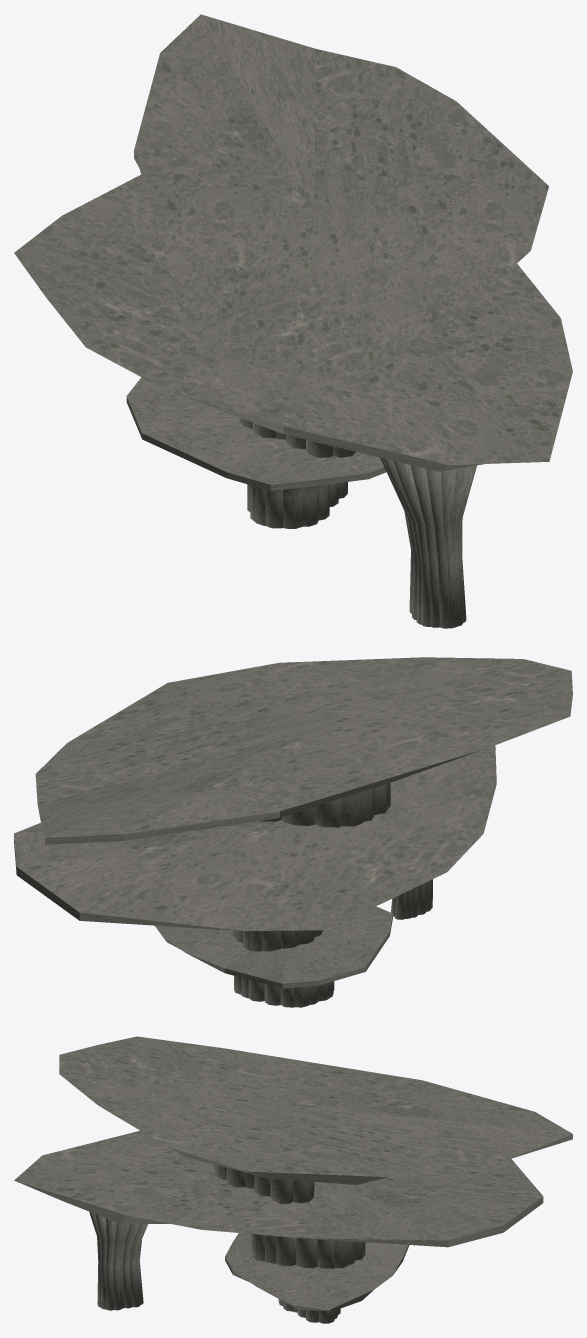
The model's file is rock plat2.fbx.
The picture shows the model from 3 angles, top to bottom: view 1: azimuth 30°, elevation 25°; view 2: azimuth 150°, elevation 25°; view 3: azimuth 270°, elevation 25°; orthographic projection. The views are drawn at different scales.
Visible parts, largest first — view 1: rock plat.001; view 2: rock plat.001; view 3: rock plat.001.
Boxes of the visible parts, bbox=[...] form: rock plat.001: bbox=[14, 14, 572, 628]; rock plat.001: bbox=[14, 657, 572, 1007]; rock plat.001: bbox=[14, 1036, 572, 1323].
Bounding box in the file's own units: 867 × 564 × 1388.
